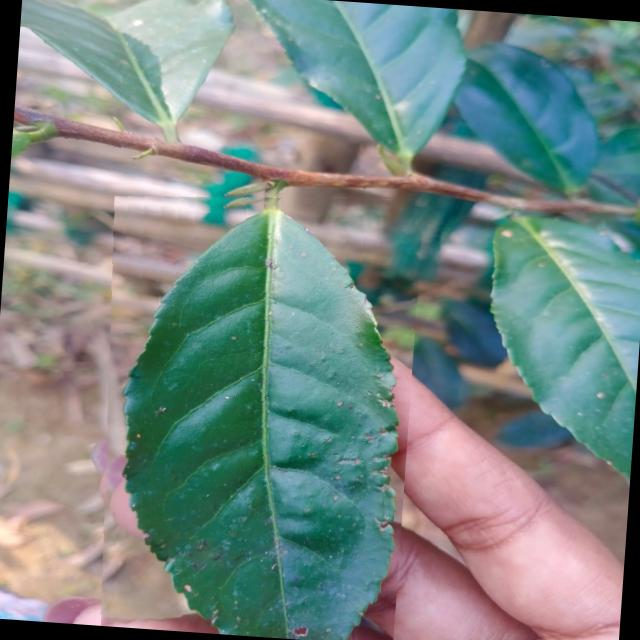Category D(7+ days, Not for Tea): (84, 177, 423, 640)
